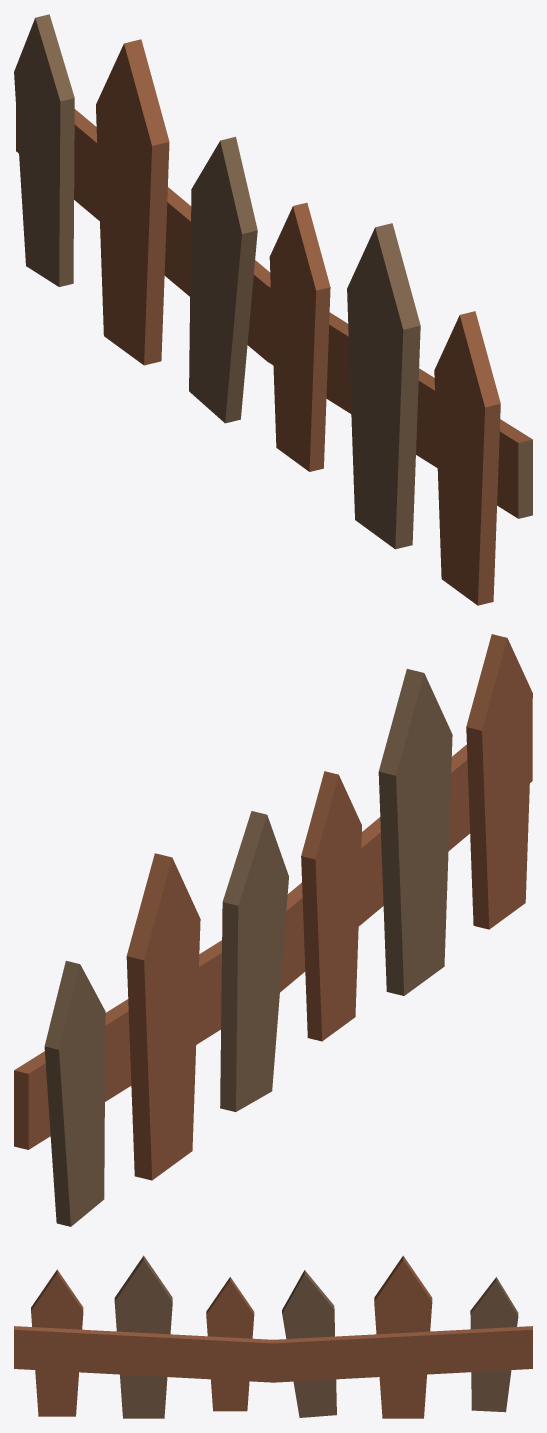
The model's file is Balla.fbx.
3 views of the same model, one above another, from view 1: azimuth 30°, elevation 25°; view 2: azimuth 150°, elevation 25°; view 3: azimuth 270°, elevation 25° (orthographic). The views are drawn at different scales.
Visible parts, largest first — view 1: Cube.058, Cube.059, Cube.057, Cube.061, Cube.056, Cube.060, Cube.046; view 2: Cube.059, Cube.058, Cube.061, Cube.057, Cube.056, Cube.046, Cube.060; view 3: Cube.056, Cube.058, Cube.059, Cube.061, Cube.057, Cube.046, Cube.060.
Boxes of the visible parts, bbox=[...] form: Cube.058: bbox=[347, 223, 420, 549]; Cube.059: bbox=[96, 39, 169, 365]; Cube.057: bbox=[434, 311, 500, 605]; Cube.061: bbox=[189, 136, 257, 423]; Cube.056: bbox=[16, 107, 532, 518]; Cube.060: bbox=[14, 14, 74, 286]; Cube.046: bbox=[269, 202, 330, 471]; Cube.059: bbox=[126, 853, 200, 1180]; Cube.058: bbox=[378, 669, 452, 995]; Cube.061: bbox=[220, 811, 288, 1111]; Cube.057: bbox=[466, 634, 532, 929]; Cube.056: bbox=[14, 708, 532, 1149]; Cube.046: bbox=[301, 771, 361, 1041]; Cube.060: bbox=[44, 961, 105, 1226]; Cube.056: bbox=[14, 1326, 532, 1382]; Cube.058: bbox=[114, 1255, 172, 1418]; Cube.059: bbox=[374, 1255, 432, 1418]; Cube.061: bbox=[282, 1270, 336, 1417]; Cube.057: bbox=[31, 1269, 83, 1416]; Cube.046: bbox=[206, 1277, 254, 1411]; Cube.060: bbox=[470, 1277, 518, 1412].
Size of the model in its own units: 0.4448 by 4.05 by 12.
